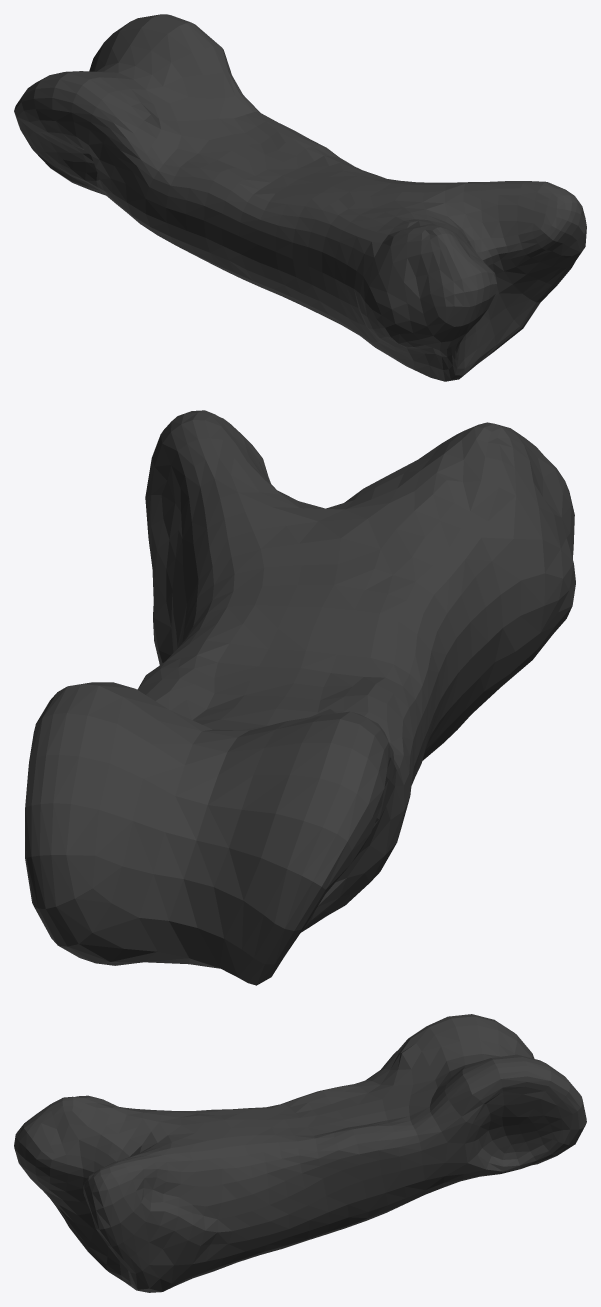
The model's file is Proximal_phalange_2.glb.
3 views of the same model, one above another, from view 1: azimuth 30°, elevation 25°; view 2: azimuth 150°, elevation 25°; view 3: azimuth 270°, elevation 25° (orthographic). The views are drawn at different scales.
Visible parts, largest first — view 1: Proximal_phalange_2; view 2: Proximal_phalange_2; view 3: Proximal_phalange_2.
Boxes of the visible parts, x1,y1,x2,y2 form: Proximal_phalange_2: (14, 14, 586, 381); Proximal_phalange_2: (25, 410, 575, 985); Proximal_phalange_2: (14, 1014, 586, 1292).
Size of the model in its own units: 0.2023 by 0.1231 by 0.3387.
Materials: 1 (1 with a texture image).
